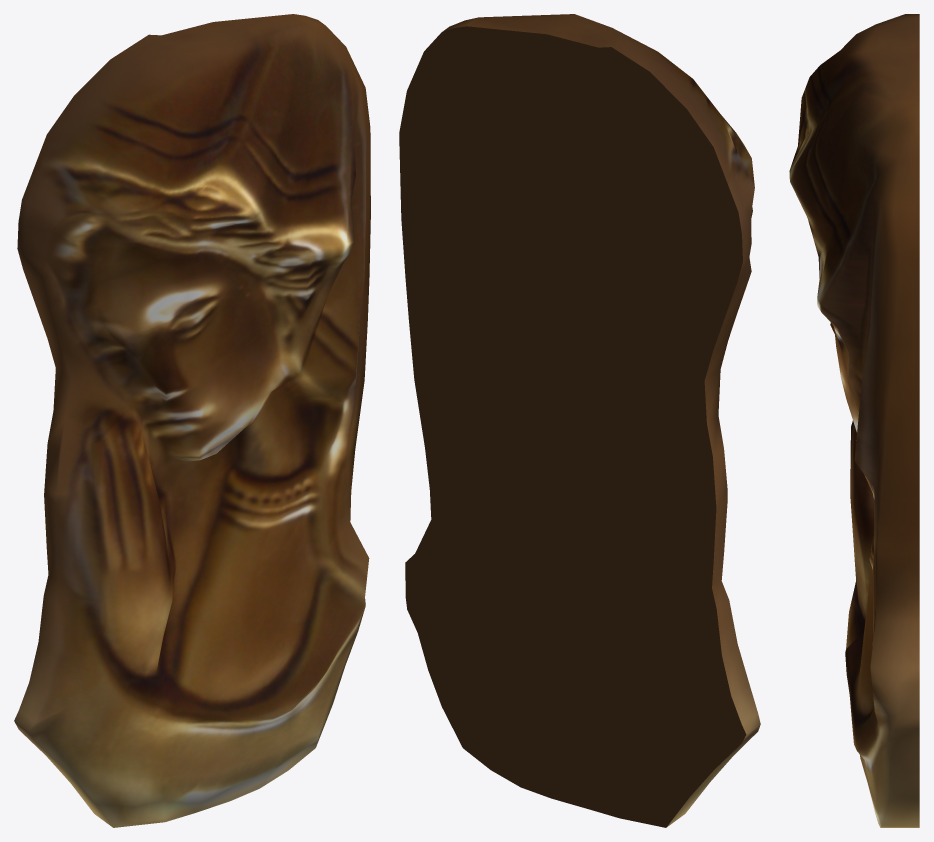
File: Art1343.fbx
3 views of the same model, side by side, from view 1: azimuth 30°, elevation 25°; view 2: azimuth 150°, elevation 25°; view 3: azimuth 270°, elevation 25° (orthographic).
Parts seen in each view (by area): view 1: Mesh_2; view 2: Mesh_2; view 3: Mesh_2.
Boxes of the visible parts, box(x1,y1,x2,y2) form: Mesh_2: box(14, 14, 370, 827); Mesh_2: box(399, 14, 760, 827); Mesh_2: box(789, 14, 919, 827).
Bounding box in the file's own units: 6.81 × 14.42 × 2.21.
1 material, 1 textured.
